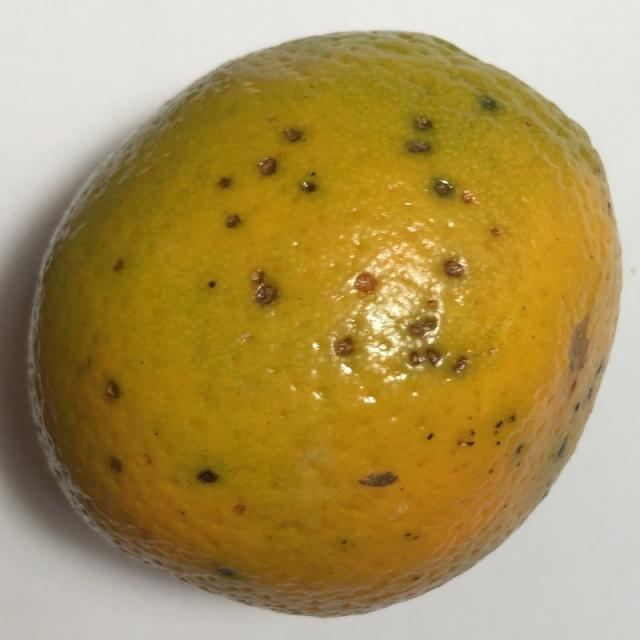blackspot: (17, 22, 616, 613)
